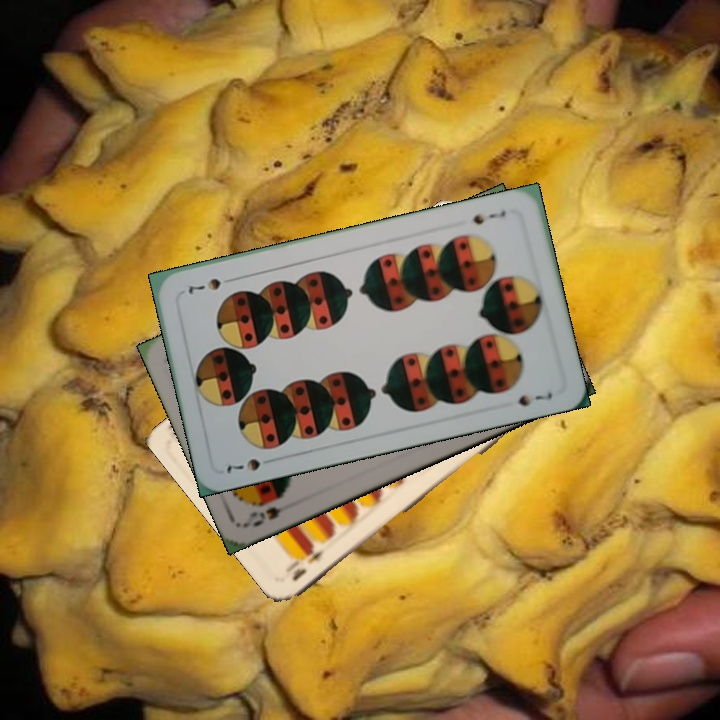E10: (287, 545, 328, 584)
S7: (222, 453, 278, 476), (469, 206, 508, 227)
SO: (243, 502, 283, 530)
